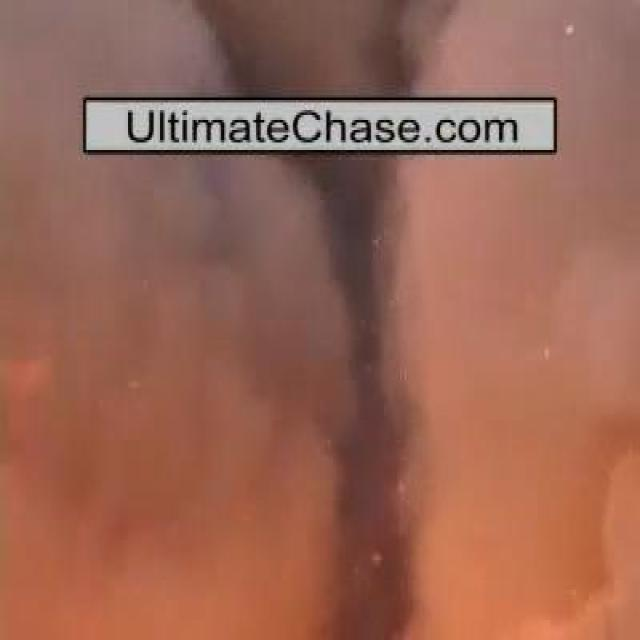Smoke: (19, 164, 624, 604)
